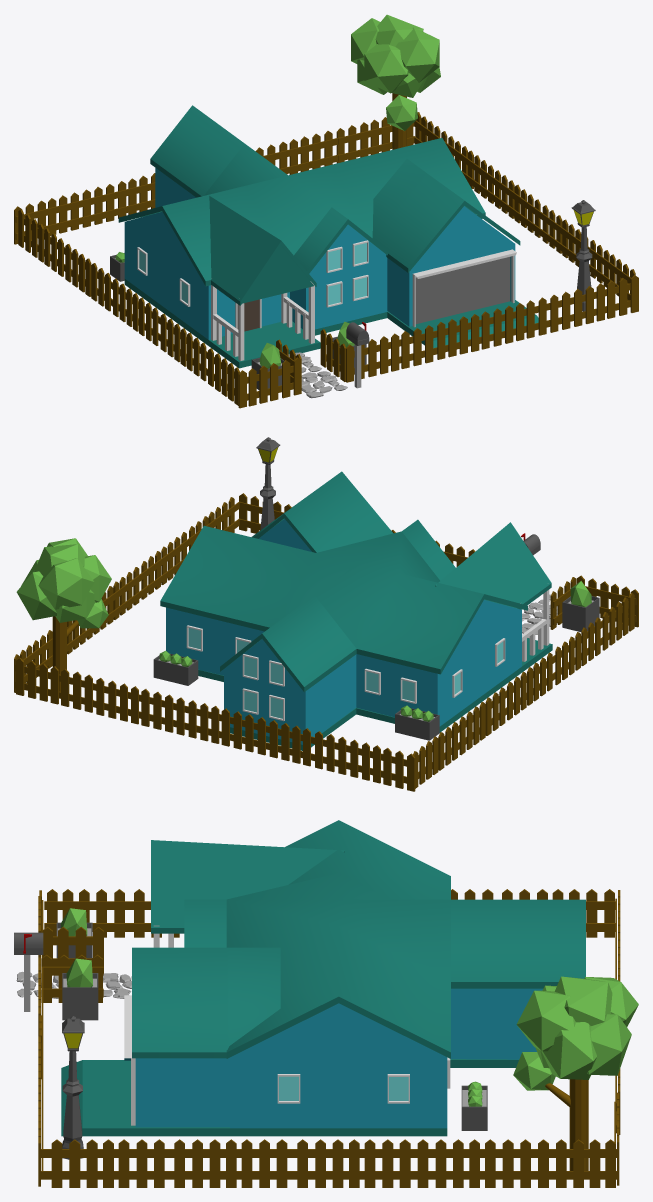
The picture shows the model from 3 angles, top to bottom: view 1: azimuth 30°, elevation 25°; view 2: azimuth 150°, elevation 25°; view 3: azimuth 270°, elevation 25°; orthographic projection. The views are drawn at different scales.
Parts seen in each view (by area): view 1: ee13; view 2: ee13; view 3: ee13.
Part boxes in pixels (<box>): ee13: <box>14,14,638,408</box>; ee13: <box>14,437,638,791</box>; ee13: <box>14,820,638,1187</box>.
Bounding box in the file's own units: 25.23 × 8.74 × 26.2.
